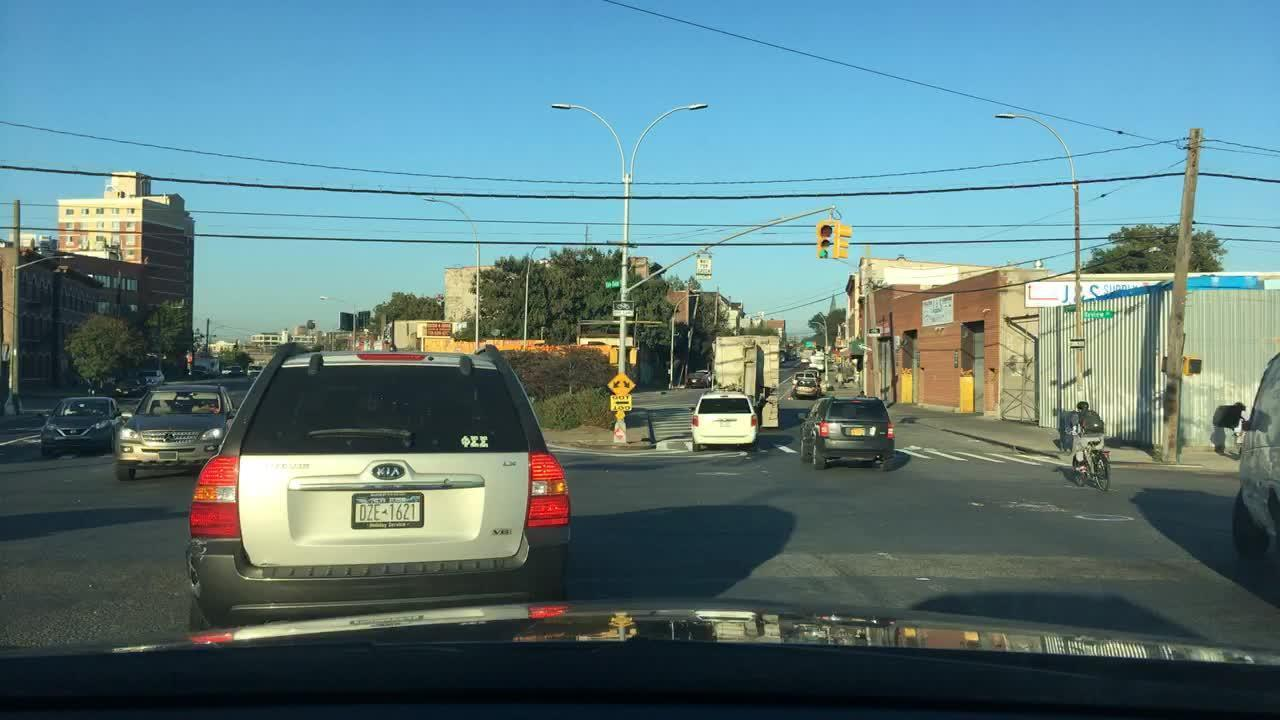kia: (366, 456, 412, 492)
